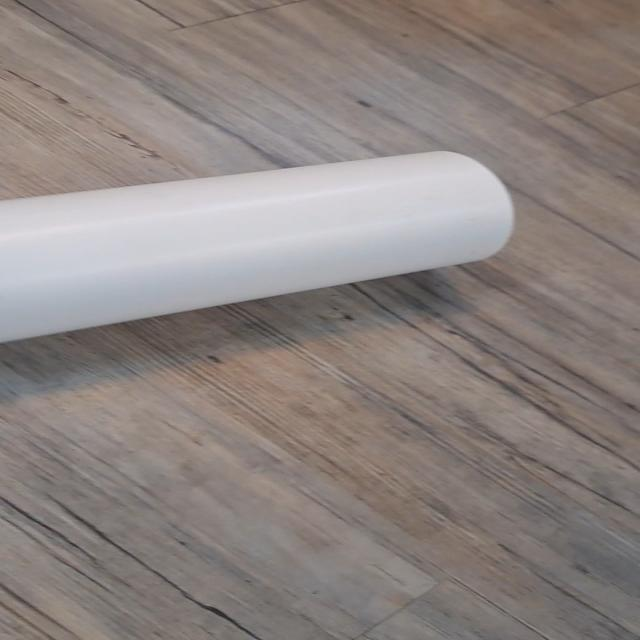CORAL: (0, 142, 523, 356)
